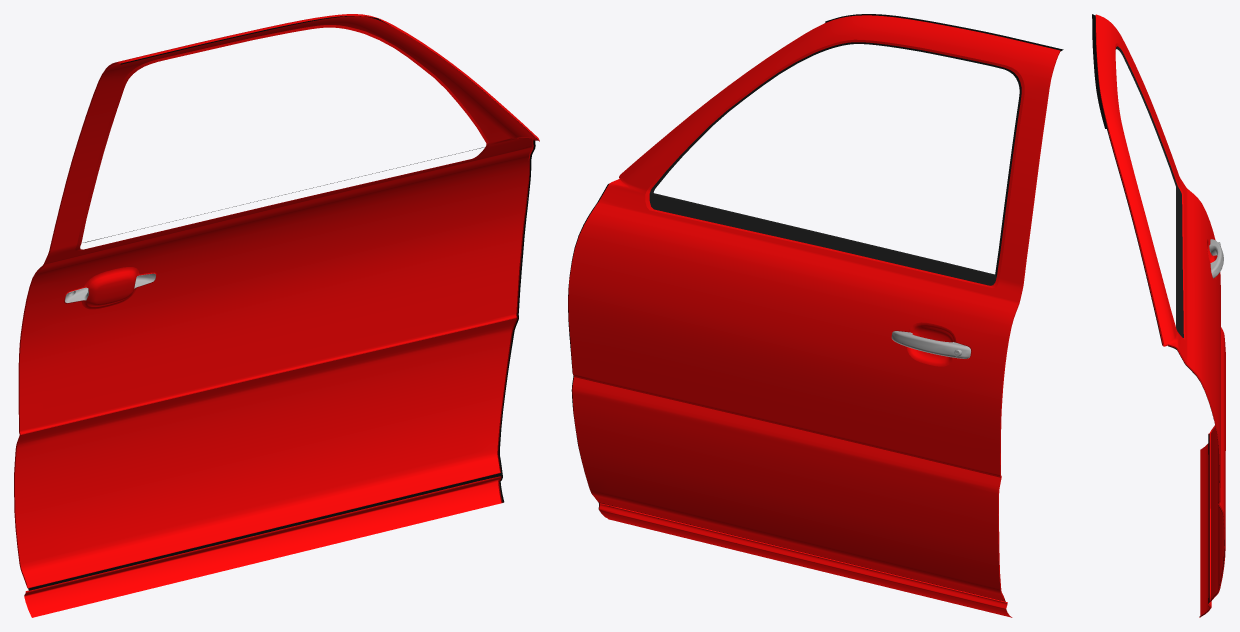
The picture shows the model from 3 angles, left to right: view 1: azimuth 30°, elevation 25°; view 2: azimuth 150°, elevation 25°; view 3: azimuth 270°, elevation 25°; orthographic projection. The views are drawn at different scales.
Visible parts, largest first — view 1: U805_4A_261B_L_1_DaS_U805_4A_261B_L, U805_4A_261B_L_1_DaS_U805_4A_261B_L_E, U805_4A_261B_L_U805_4A_261B_L_4_D; view 2: U805_4A_261B_L_1_DaS_U805_4A_261B_L, U805_4A_261B_L_U805_4A_261B_L_3_D, U805_4A_261B_L_1_DaS_U805_4A_261B_L_E, U805_4A_261B_L_U805_4A_261B_L_2_DaS, U805_4A_261B_L_U805_4A_261B_L_4_D; view 3: U805_4A_261B_L_1_DaS_U805_4A_261B_L, U805_4A_261B_L_1_DaS_U805_4A_261B_L_E, U805_4A_261B_L_U805_4A_261B_L_3_D, U805_4A_261B_L_U805_4A_261B_L_4_D, U805_4A_261B_L_U805_4A_261B_L_2_DaS.
Boxes of the visible parts, left/top/right/bottom form: U805_4A_261B_L_1_DaS_U805_4A_261B_L: left=15, top=16, right=535, bottom=617; U805_4A_261B_L_1_DaS_U805_4A_261B_L_E: left=14, top=14, right=539, bottom=591; U805_4A_261B_L_U805_4A_261B_L_4_D: left=28, top=16, right=538, bottom=590; U805_4A_261B_L_1_DaS_U805_4A_261B_L: left=568, top=15, right=1059, bottom=617; U805_4A_261B_L_U805_4A_261B_L_3_D: left=649, top=42, right=1021, bottom=285; U805_4A_261B_L_1_DaS_U805_4A_261B_L_E: left=574, top=39, right=1060, bottom=602; U805_4A_261B_L_U805_4A_261B_L_2_DaS: left=891, top=331, right=970, bottom=358; U805_4A_261B_L_U805_4A_261B_L_4_D: left=568, top=14, right=1063, bottom=601; U805_4A_261B_L_1_DaS_U805_4A_261B_L: left=1096, top=14, right=1225, bottom=615; U805_4A_261B_L_1_DaS_U805_4A_261B_L_E: left=1095, top=15, right=1225, bottom=617; U805_4A_261B_L_U805_4A_261B_L_3_D: left=1115, top=46, right=1183, bottom=337; U805_4A_261B_L_U805_4A_261B_L_4_D: left=1092, top=14, right=1224, bottom=616; U805_4A_261B_L_U805_4A_261B_L_2_DaS: left=1209, top=239, right=1223, bottom=278.
Bounding box in the file's own units: 114 × 130 × 35.61.
